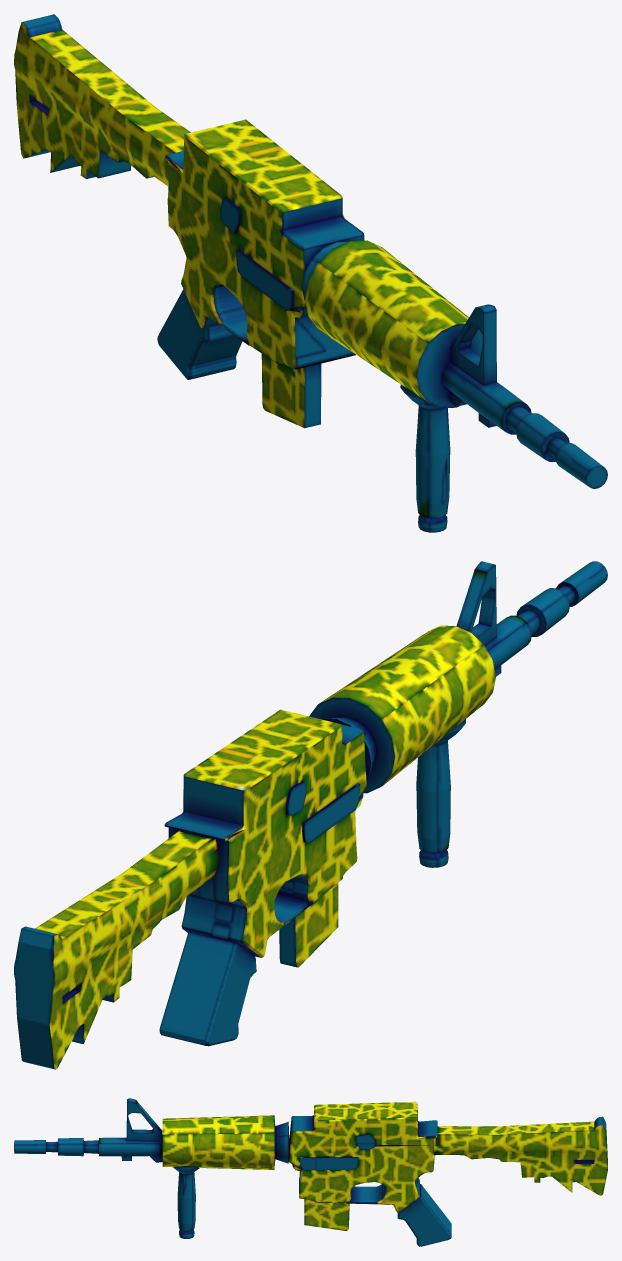
Rendered from Gan_1.fbx.
3 views of the same model, one above another, from view 1: azimuth 30°, elevation 25°; view 2: azimuth 150°, elevation 25°; view 3: azimuth 270°, elevation 25° (orthographic). The views are drawn at different scales.
Visible parts, largest first — view 1: Gan_1; view 2: Gan_1; view 3: Gan_1.
Part boxes in pixels (x1=…): Gan_1: x1=14, y1=14, x2=607, y2=532; Gan_1: x1=14, y1=561, x2=607, y2=1069; Gan_1: x1=14, y1=1098, x2=607, y2=1246.
Bounding box in the file's own units: 9.39 × 26.76 × 102.
